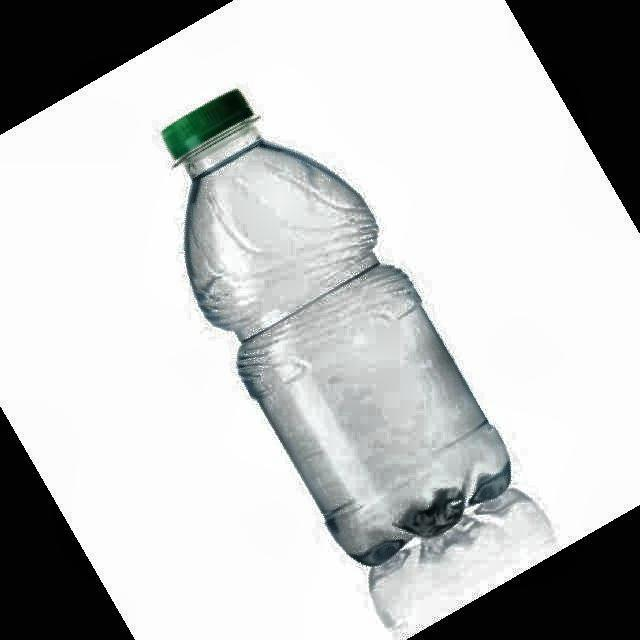plastic: (164, 91, 510, 570)
